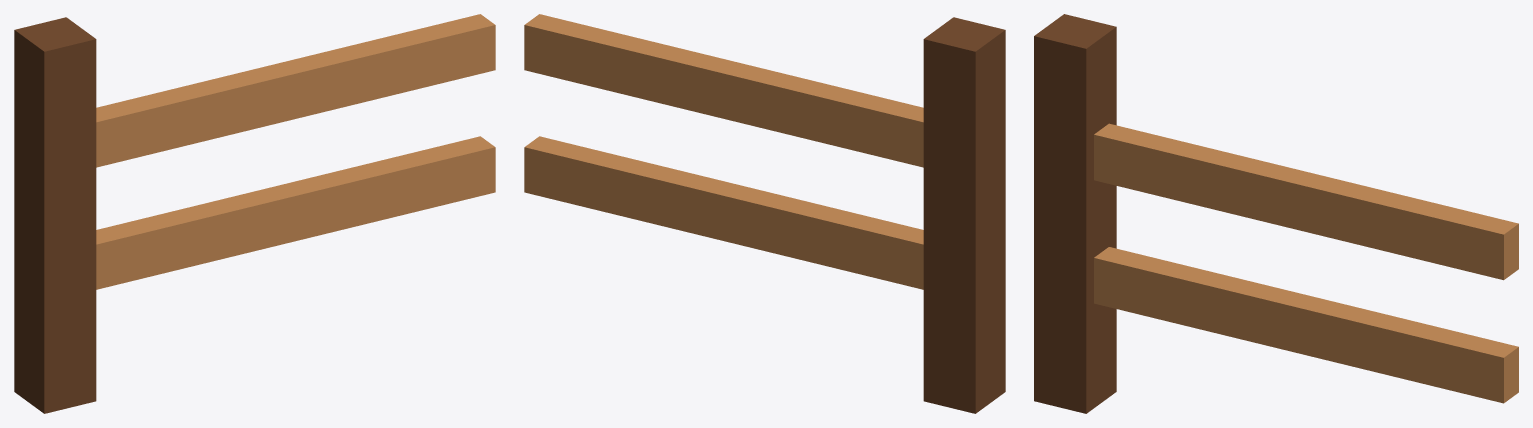
The model's file is fence.glb.
The picture shows the model from 3 angles, left to right: view 1: azimuth 30°, elevation 25°; view 2: azimuth 150°, elevation 25°; view 3: azimuth 330°, elevation 25°; orthographic projection.
Visible parts, largest first — view 1: Fence-col; view 2: Fence-col; view 3: Fence-col.
Boxes of the visible parts, bbox=[...] form: Fence-col: bbox=[14, 14, 495, 413]; Fence-col: bbox=[524, 14, 1005, 413]; Fence-col: bbox=[1034, 14, 1518, 413].
Bounding box in the file's own units: 1.06 × 0.8 × 0.12.
